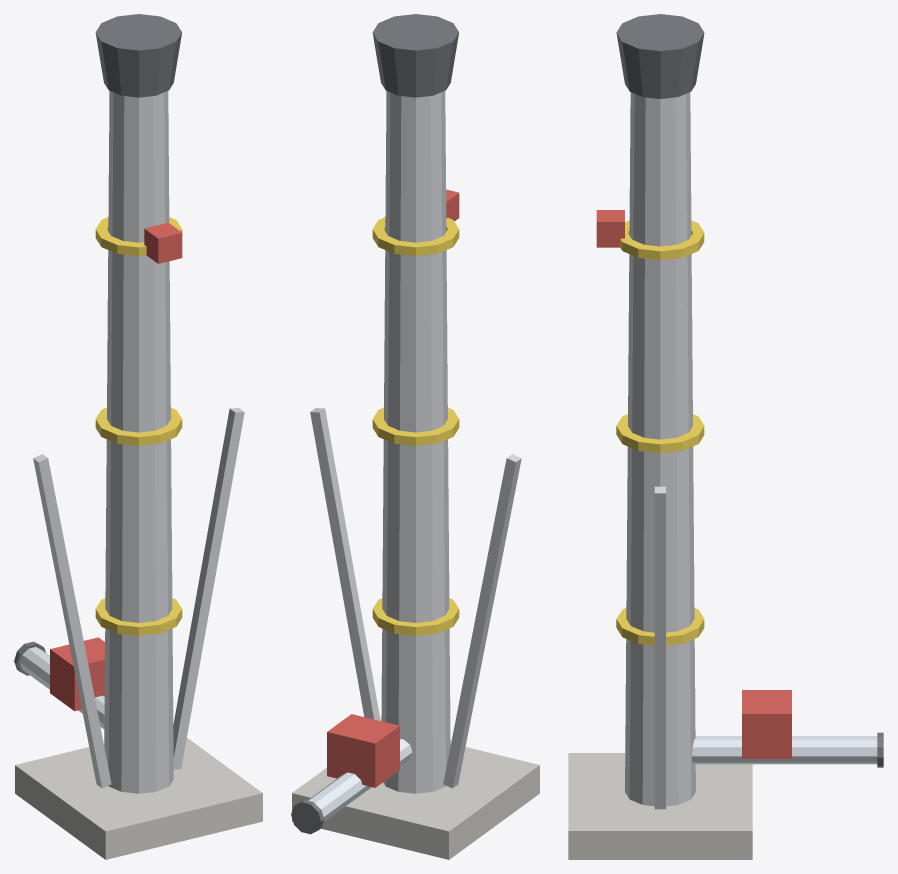
File: vent.glb
3 views of the same model, side by side, from view 1: azimuth 30°, elevation 25°; view 2: azimuth 150°, elevation 25°; view 3: azimuth 270°, elevation 25° (orthographic).
Parts seen in each view (by area): view 1: vent-stack; view 2: vent-stack; view 3: vent-stack.
Part boxes in pixels (x1,y1,x2,y2): vent-stack: (14,14,262,859); vent-stack: (291,14,539,859); vent-stack: (568,14,883,859).
Size of the model in its own units: 3.41 by 12.25 by 4.45.
